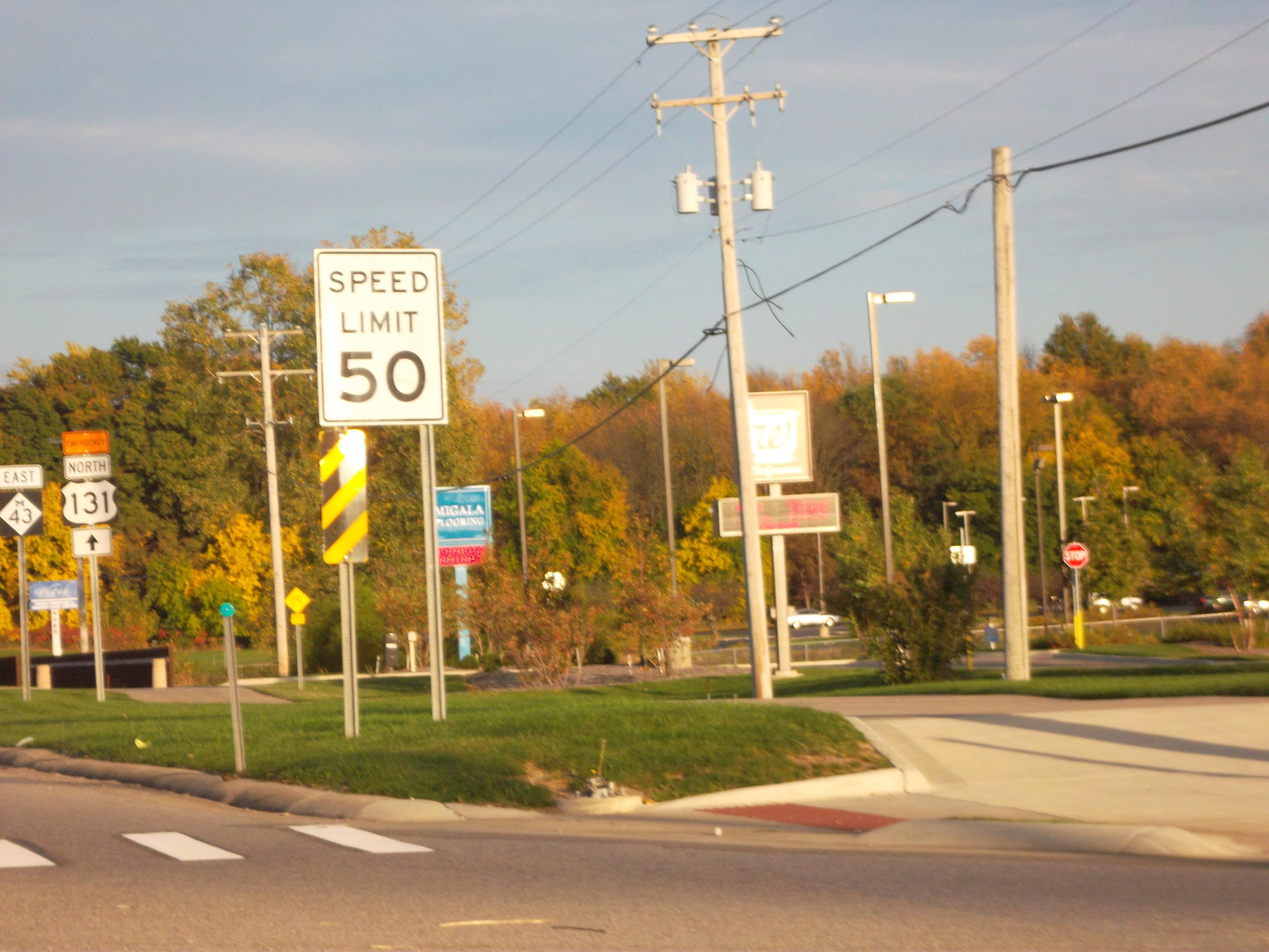Stop: (1061, 542, 1090, 570), (1047, 536, 1065, 544)
